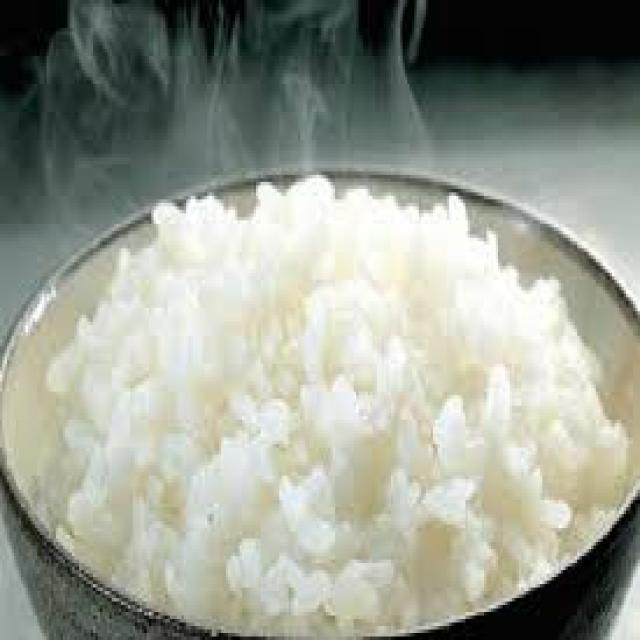nasi: (56, 194, 603, 576)
